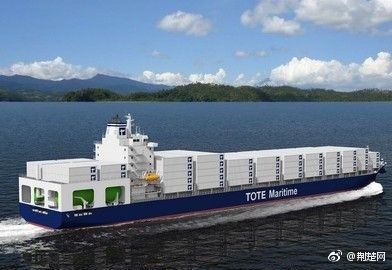Cargoship: (20, 113, 383, 224)
